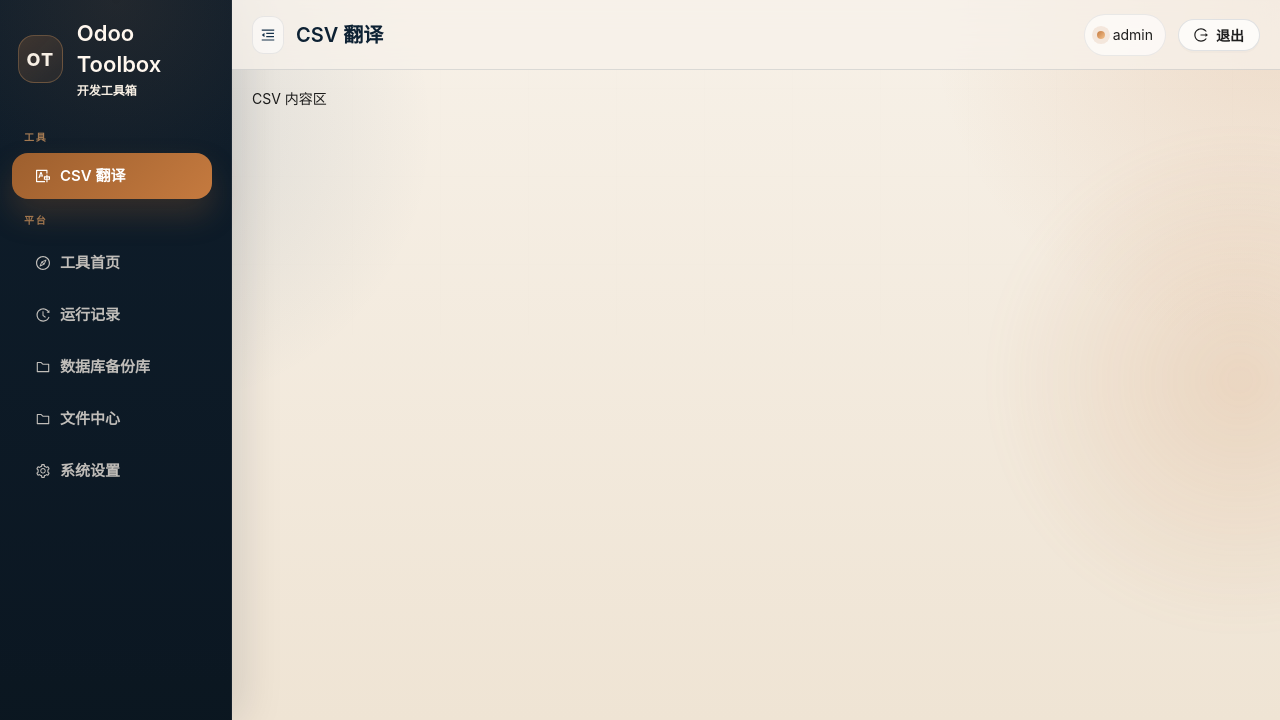
ShellLayout › keeps the shell compact and lets the sidebar collapse
This screenshot has width=1280, height=720.
Expected: the heading "Odoo Toolbox" is shown, [77,20,161,77]
What coordinates should you click on to do the following:
click the button named "收起侧边栏"
I would click on:
 (268, 34)
Its box is [252,16,284,54].
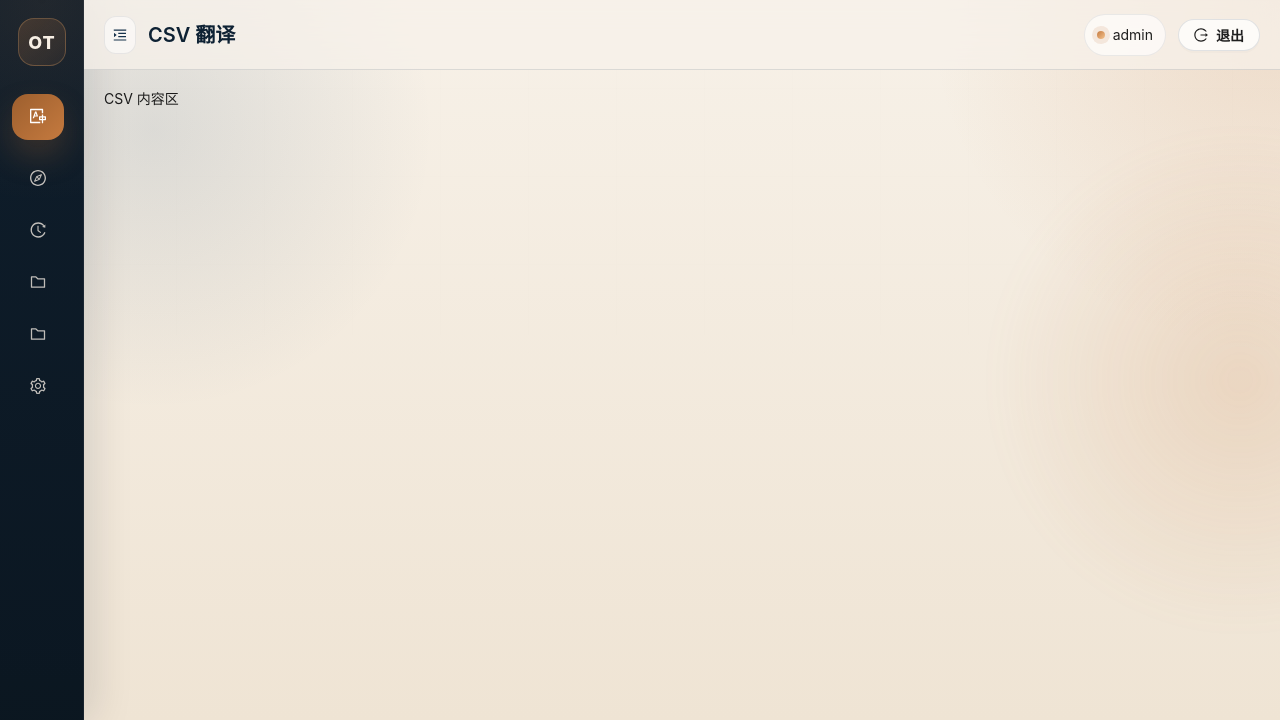
Expected: the button named "展开侧边栏" is shown, [104,16,136,54]
Expected: the heading "Odoo Toolbox" is gone
